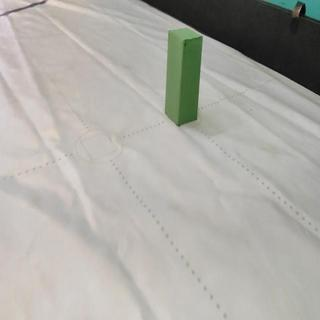greenbox: (164, 27, 204, 127)
